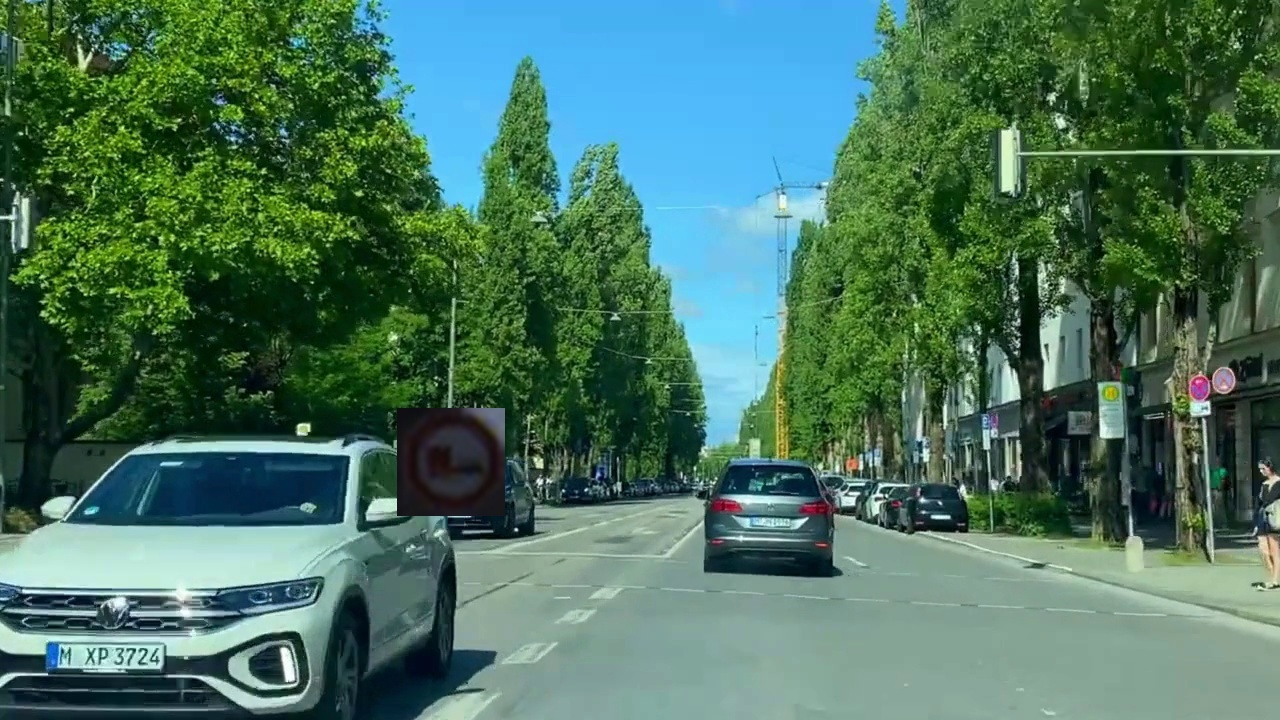No pass >3.5t: (397, 408, 505, 516)
